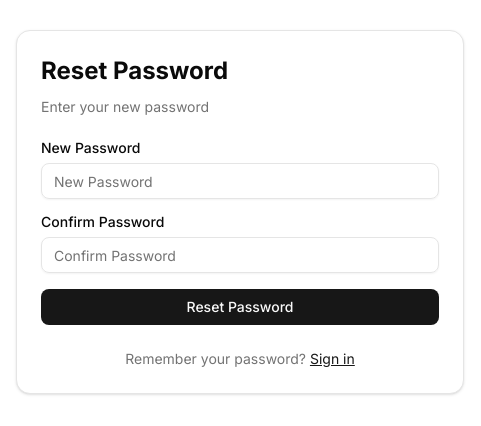
Scenario: ResetPasswordConfirmPage › shows password mismatch error when passwords do not match
Type "password123" into the password field labelled "New Password" at [240, 181], box [41, 163, 439, 199]
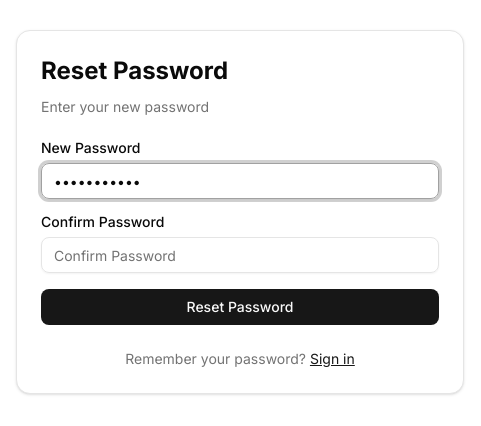
Type "differentPassword" into the password field labelled "Confirm Password" at [240, 255], box [41, 237, 439, 273]
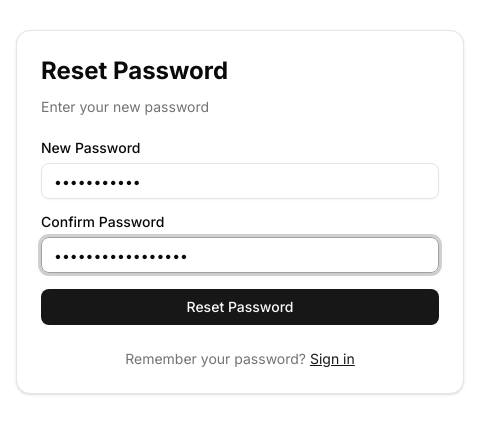
Click the button "Reset Password" at [240, 307], box [41, 289, 439, 325]
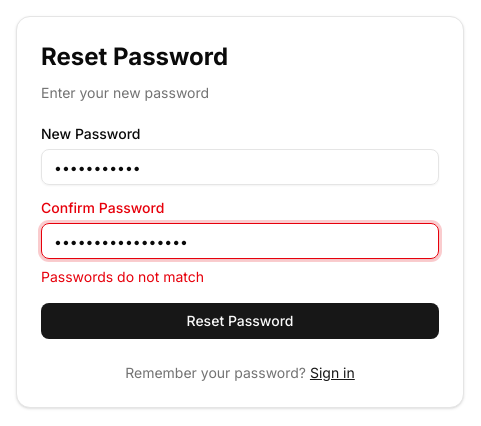
Now the text "Passwords do not match" is shown, box [41, 268, 204, 285]
